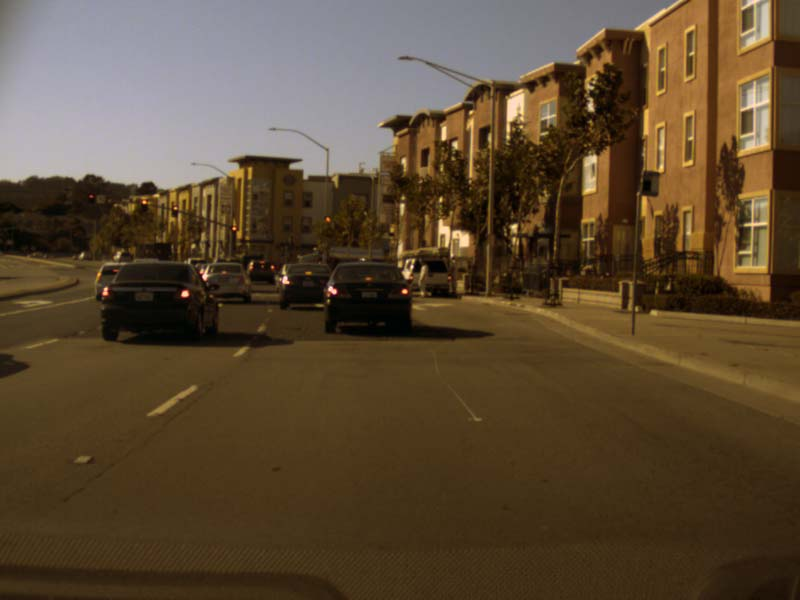Red: (140, 200, 148, 210), (88, 194, 95, 203), (172, 205, 177, 217)
